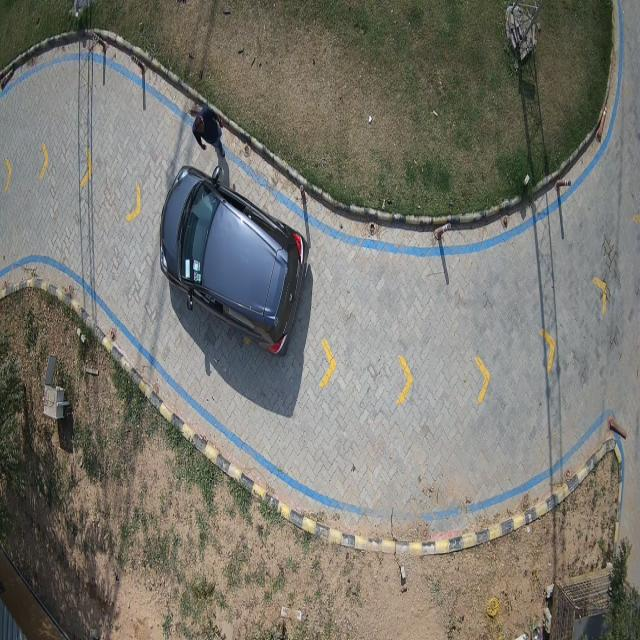car: (160, 164, 309, 352)
